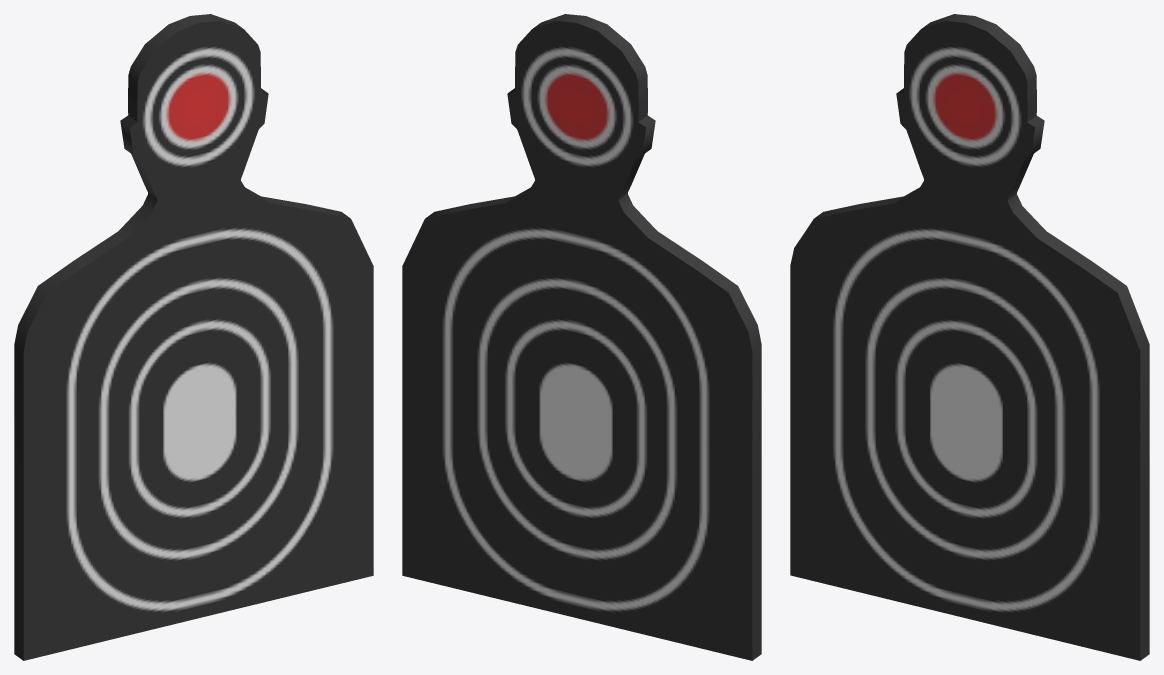
Rendered from target_2.fbx.
The picture shows the model from 3 angles, left to right: view 1: azimuth 30°, elevation 25°; view 2: azimuth 150°, elevation 25°; view 3: azimuth 330°, elevation 25°; orthographic projection.
Parts seen in each view (by area): view 1: BézierCurve; view 2: BézierCurve; view 3: BézierCurve.
Part boxes in pixels (left/top/right/bottom): BézierCurve: left=14, top=14, right=373, bottom=660; BézierCurve: left=402, top=14, right=761, bottom=660; BézierCurve: left=790, top=14, right=1149, bottom=660.
Bounding box in the file's own units: 161 × 262 × 7.5.
